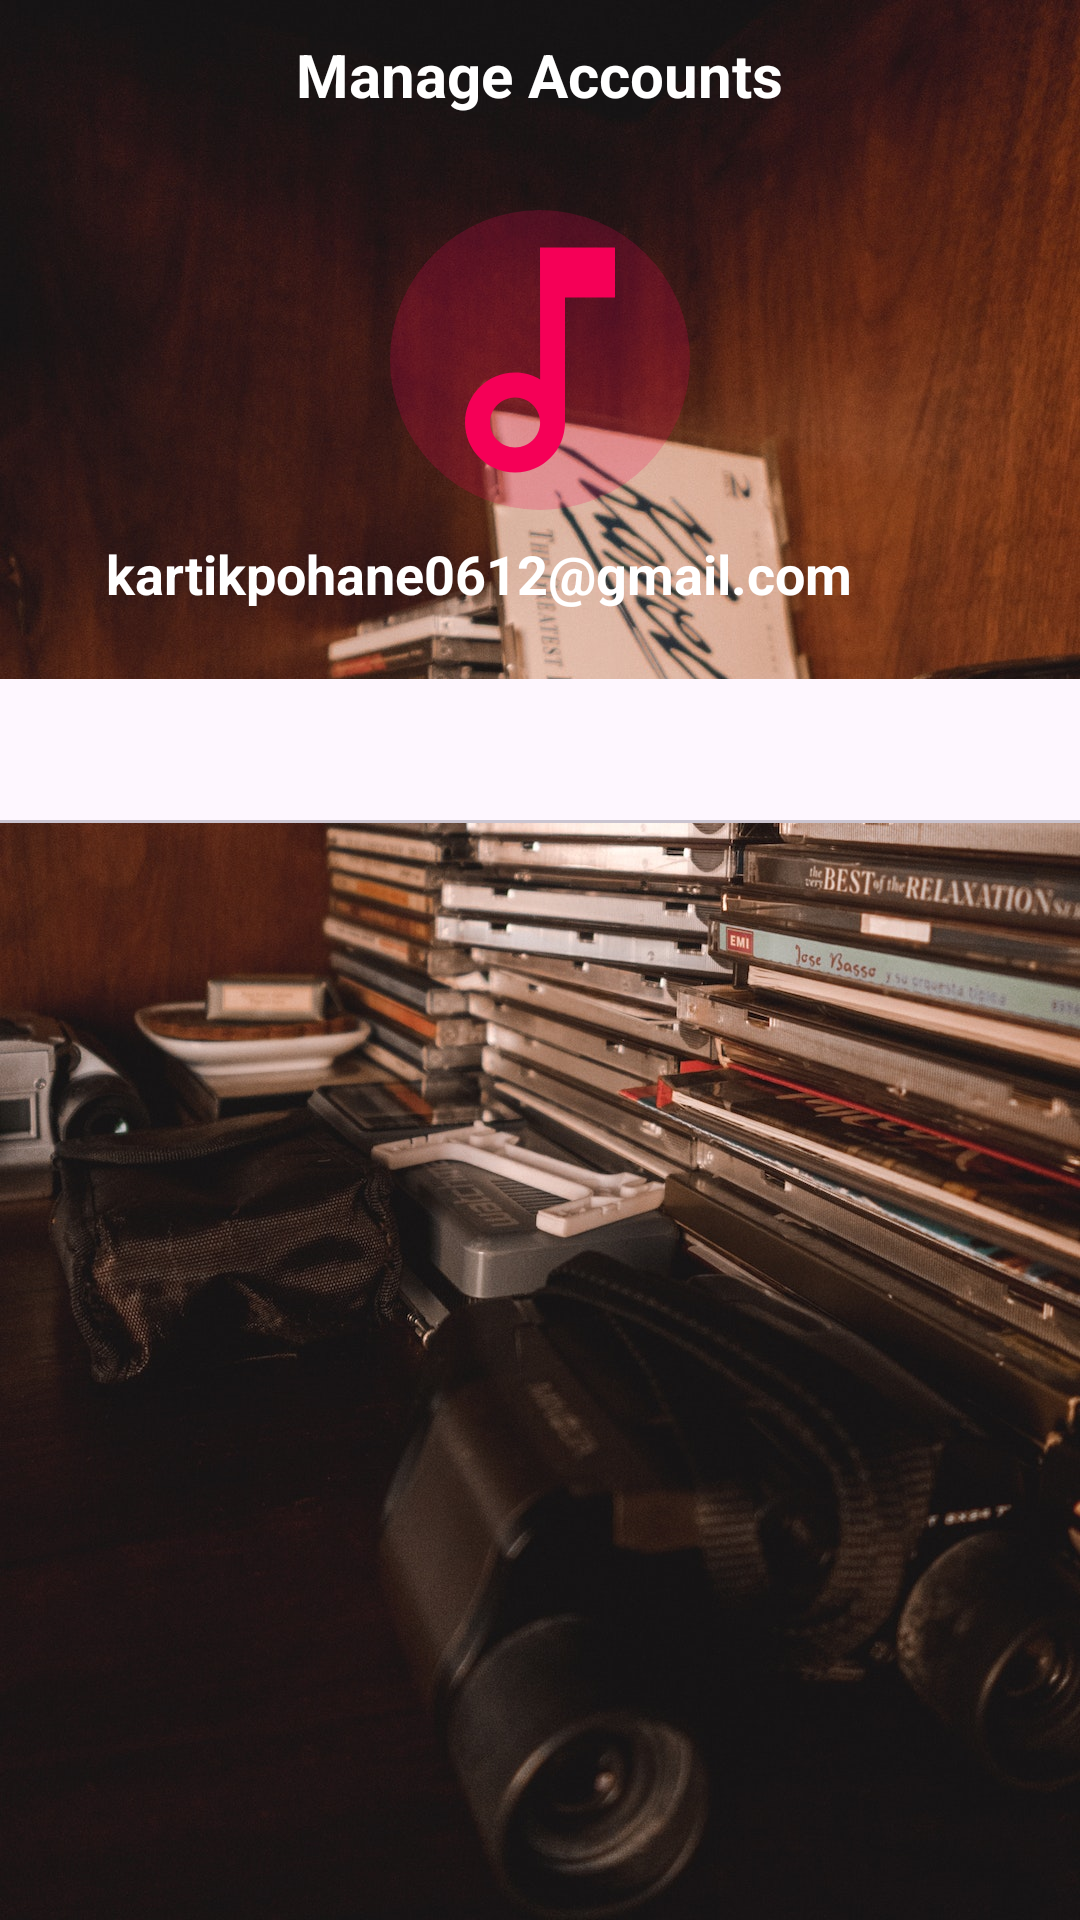

Icons on this 1080 × 1920 Android screen, each with the point to tap as [x,y]:
music note: [540,360]
